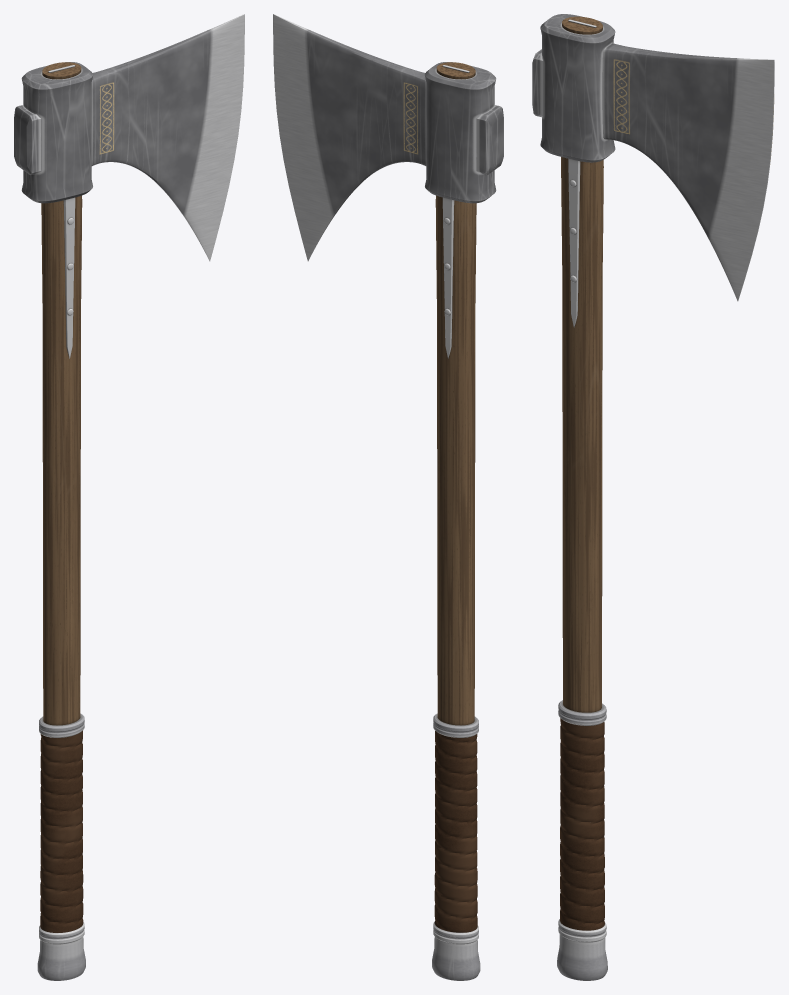
Rendered from SM_SteelAxe.fbx.
3 views of the same model, side by side, from view 1: azimuth 30°, elevation 25°; view 2: azimuth 150°, elevation 25°; view 3: azimuth 330°, elevation 25° (orthographic). The views are drawn at different scales.
Visible parts, largest first — view 1: SM_SteelAxe; view 2: SM_SteelAxe; view 3: SM_SteelAxe.
Part boxes in pixels (box(x1,y1,x2,y2)): SM_SteelAxe: box(14, 14, 244, 980); SM_SteelAxe: box(273, 14, 503, 980); SM_SteelAxe: box(532, 14, 774, 980).
Size of what is drawn, in the model's own units: 0.206 by 0.806 by 0.0367.
